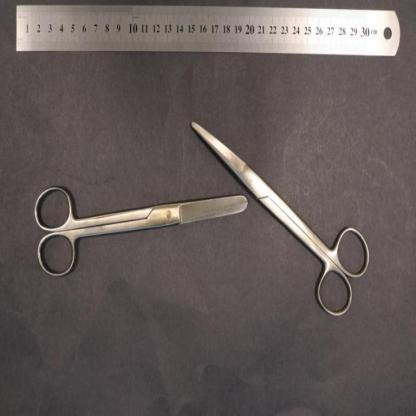Curved Mayo Scissors: (191, 121, 371, 320)
Dressing Scissors: (33, 183, 248, 280)
